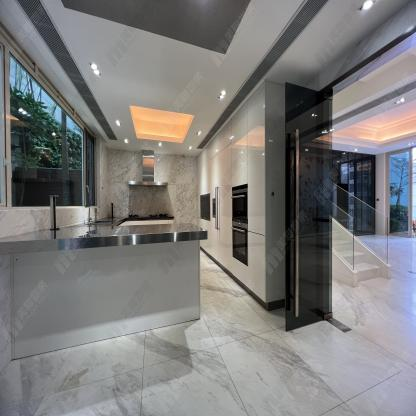Cupboard: (195, 77, 268, 311)
Exhaust Hood: (127, 181, 168, 187)
Faucet: (88, 204, 100, 222)
Fridge: (209, 141, 232, 277)
Microwave: (200, 193, 210, 221)
Oven: (231, 222, 248, 267), (232, 183, 248, 224)
Sink: (83, 220, 116, 225)
Stove: (127, 213, 169, 218)
